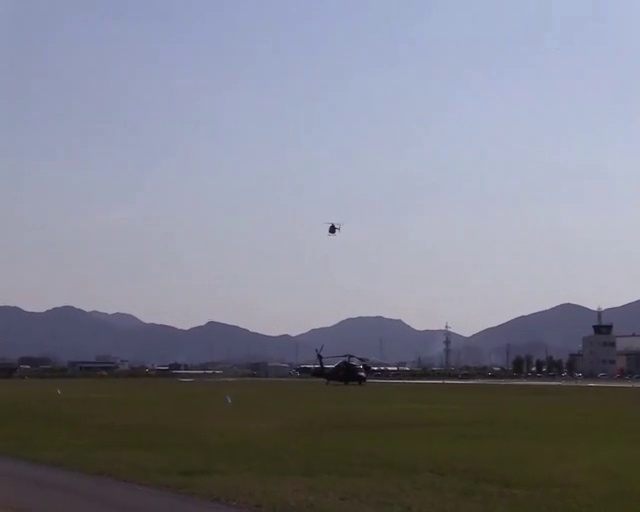HELICOPTER: (325, 221, 342, 235)
